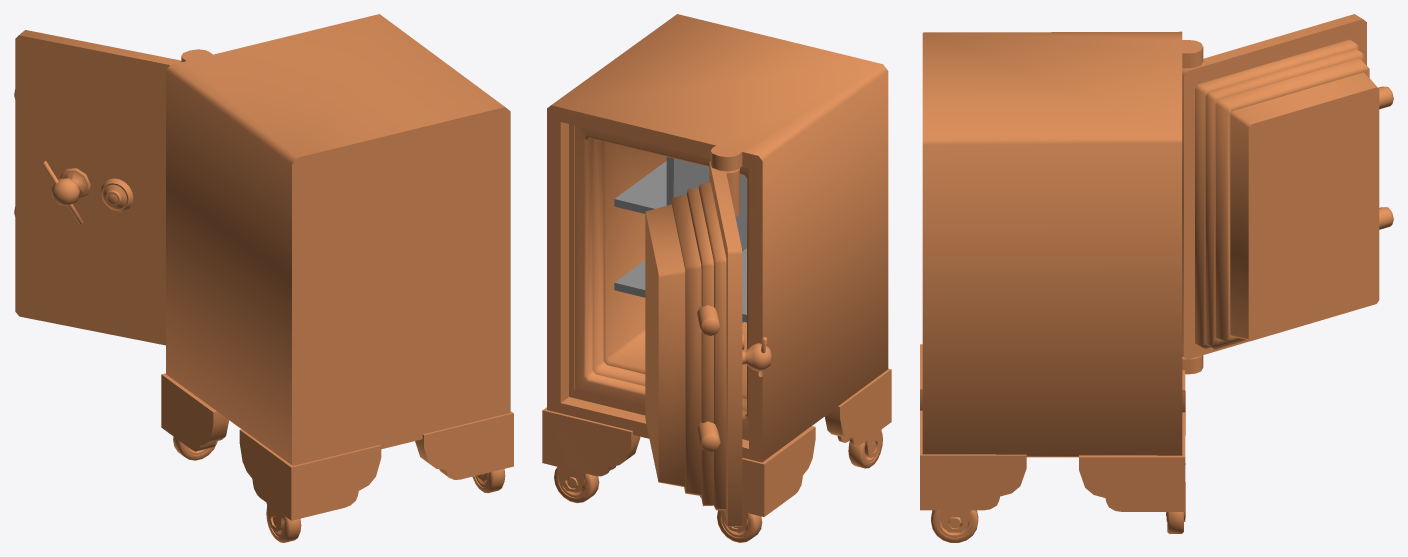
The model's file is SafeWithDoor.fbx.
The picture shows the model from 3 angles, left to right: view 1: azimuth 30°, elevation 25°; view 2: azimuth 150°, elevation 25°; view 3: azimuth 270°, elevation 25°; orthographic projection. The views are drawn at different scales.
Visible parts, largest first — view 1: Safe_Low_Poly; view 2: Safe_Low_Poly; view 3: Safe_Low_Poly.
Boxes of the visible parts, <box> form: Safe_Low_Poly: <box>14,14,513,542</box>; Safe_Low_Poly: <box>542,14,891,542</box>; Safe_Low_Poly: <box>920,14,1393,542</box>.
Size of the model in its own units: 23.03 by 30.45 by 32.19.
